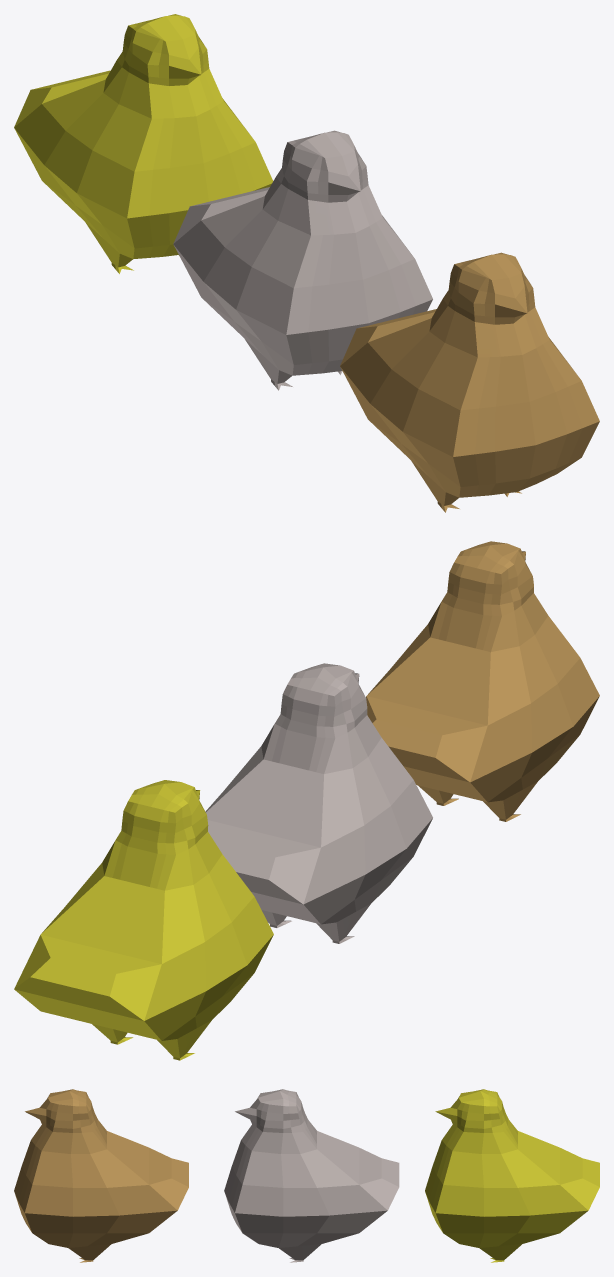
Rendered from All Chickens .fbx.
3 views of the same model, one above another, from view 1: azimuth 30°, elevation 25°; view 2: azimuth 150°, elevation 25°; view 3: azimuth 270°, elevation 25° (orthographic). The views are drawn at different scales.
Visible parts, largest first — view 1: Cube.003, Cube.002, Cube.001; view 2: Cube.001, Cube.003, Cube.002; view 3: Cube.002, Cube.001, Cube.003.
Boxes of the visible parts, x1=… form: Cube.003: x1=340, y1=252, x2=599, y2=512; Cube.002: x1=173, y1=130, x2=432, y2=390; Cube.001: x1=14, y1=14, x2=273, y2=273; Cube.001: x1=14, y1=780, x2=273, y2=1060; Cube.003: x1=366, y1=541, x2=599, y2=821; Cube.002: x1=205, y1=663, x2=432, y2=943; Cube.002: x1=224, y1=1089, x2=399, y2=1262; Cube.001: x1=425, y1=1089, x2=599, y2=1262; Cube.003: x1=14, y1=1089, x2=188, y2=1262.
Size of the model in its own units: 474 by 676 by 2239.
